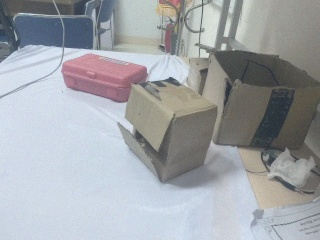box: (203, 50, 320, 149), (122, 77, 218, 183), (61, 49, 146, 104)
